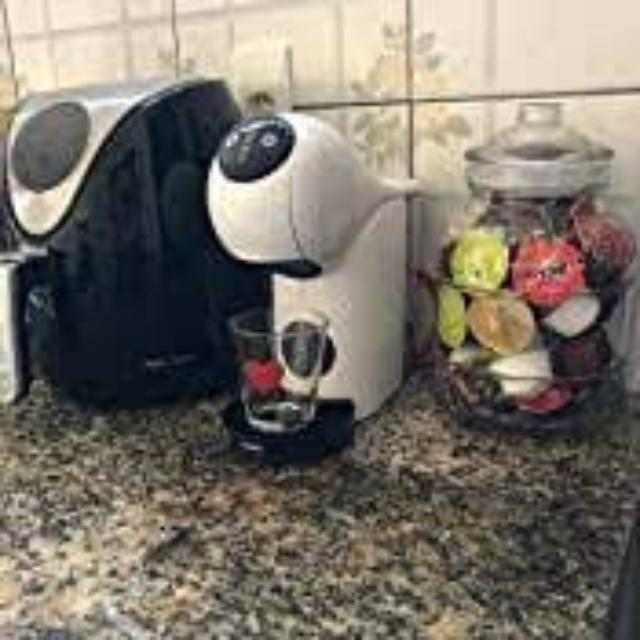Coffee-Machine: (204, 106, 426, 470)
